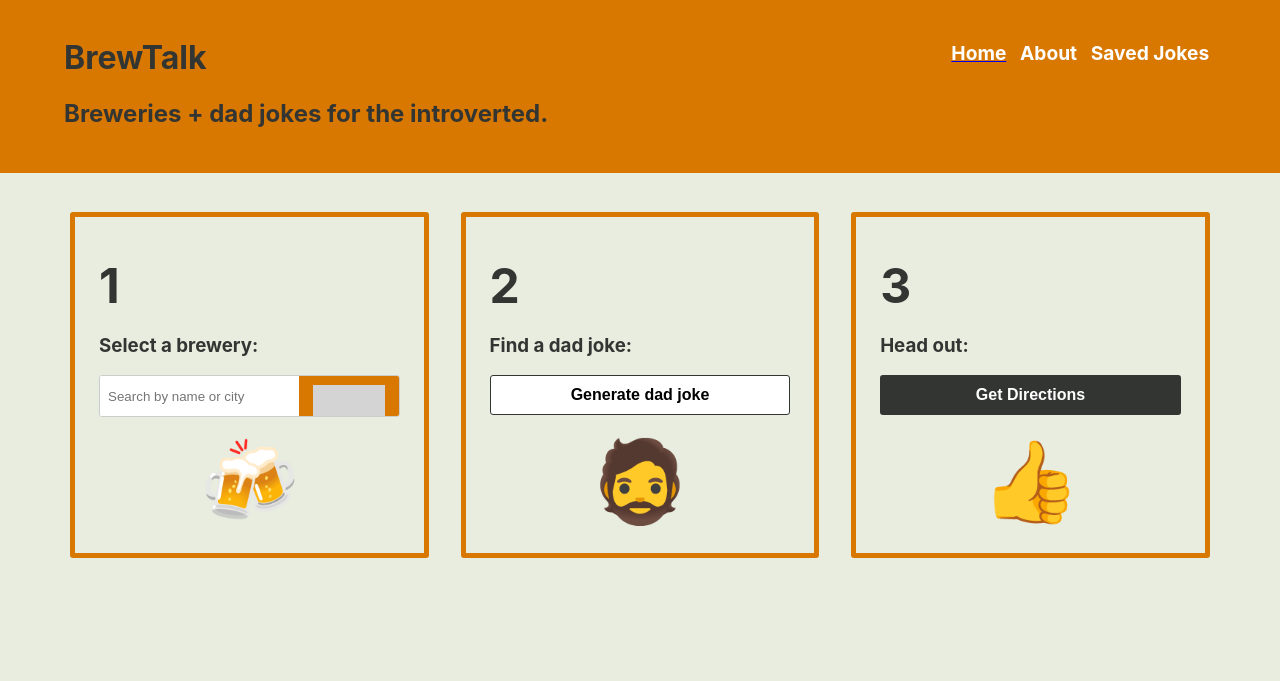
Test: Homepage: Step 1 › Should be able to unselect a brewery
The width and height of the screenshot is (1280, 681).
In the search field with placeholder "Search by name or city": (200, 396) top-left (100, 376), bottom-right (299, 416), type "Bend"
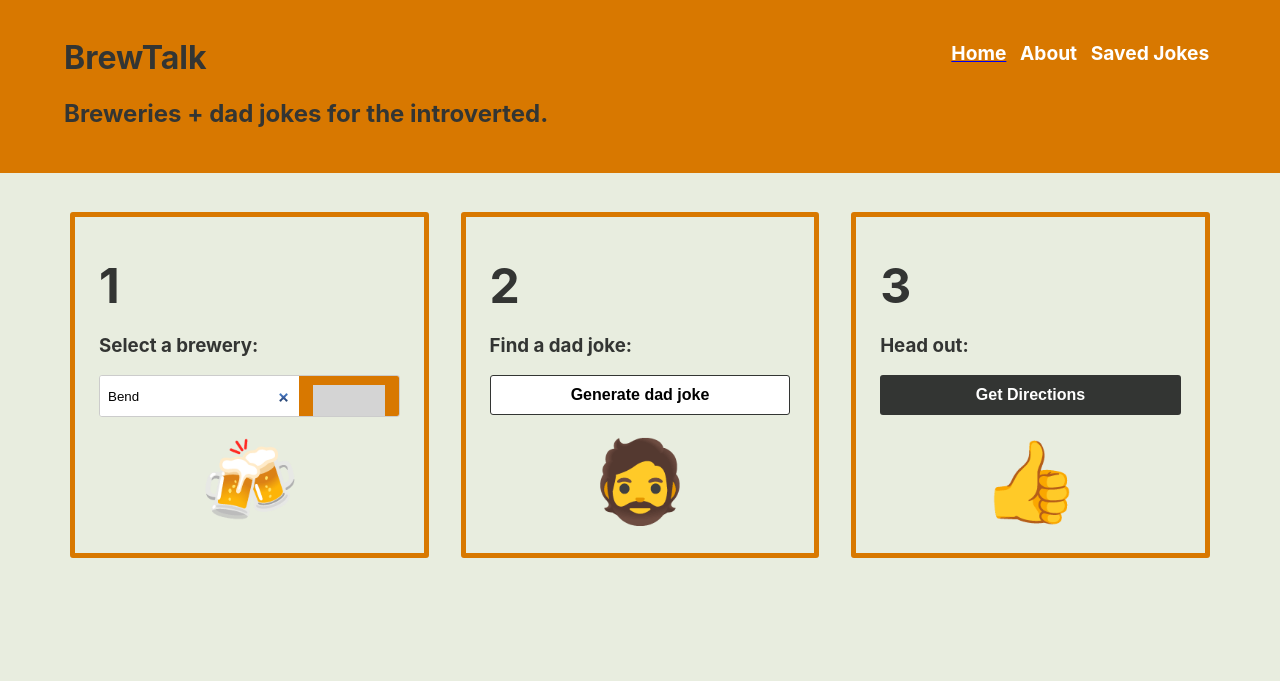
Press Enter in the search field, box top-left (100, 376), bottom-right (299, 416)
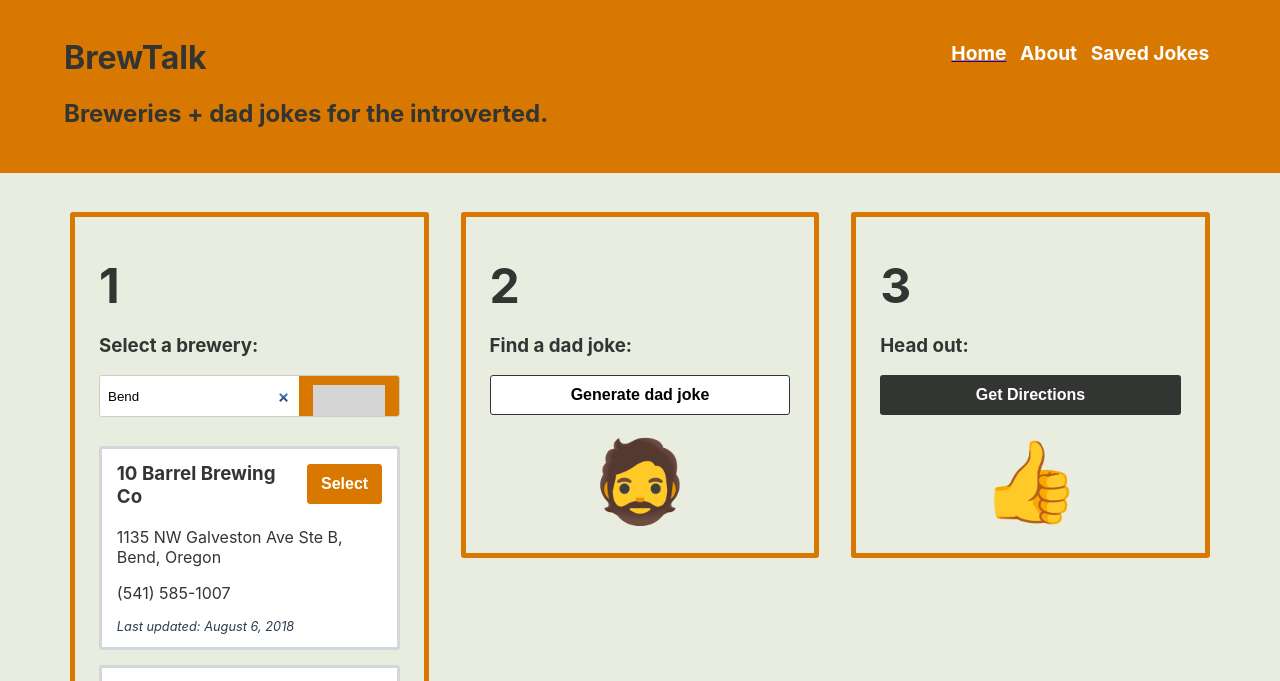
Click the 1st button "Select": (345, 484) top-left (307, 464), bottom-right (382, 504)
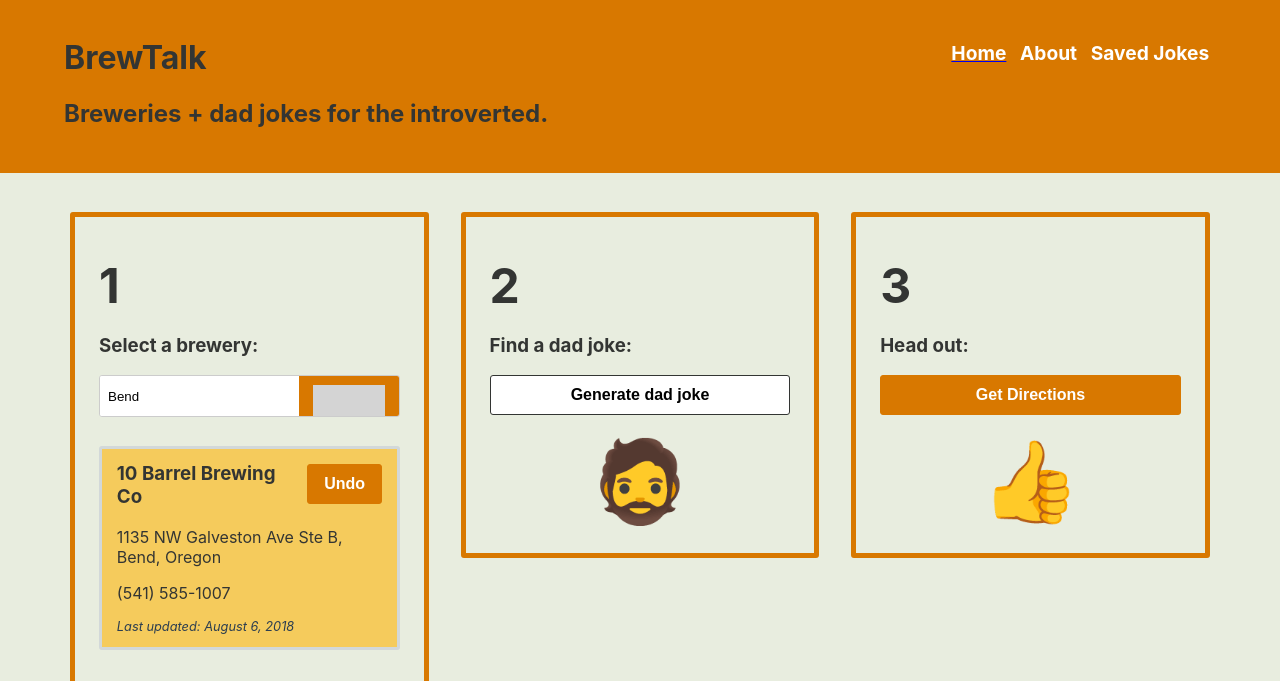
Click the button "Undo": (345, 484) top-left (307, 464), bottom-right (382, 504)
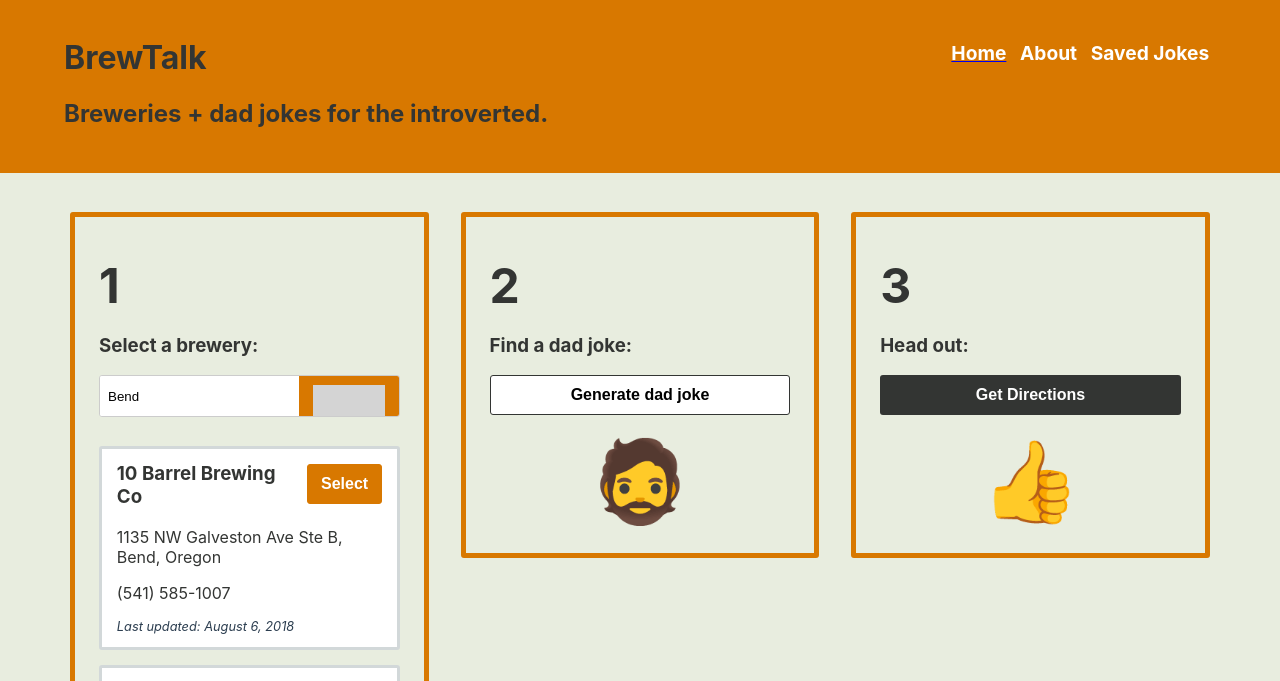
Expected: the element with class "selected-card" is gone
